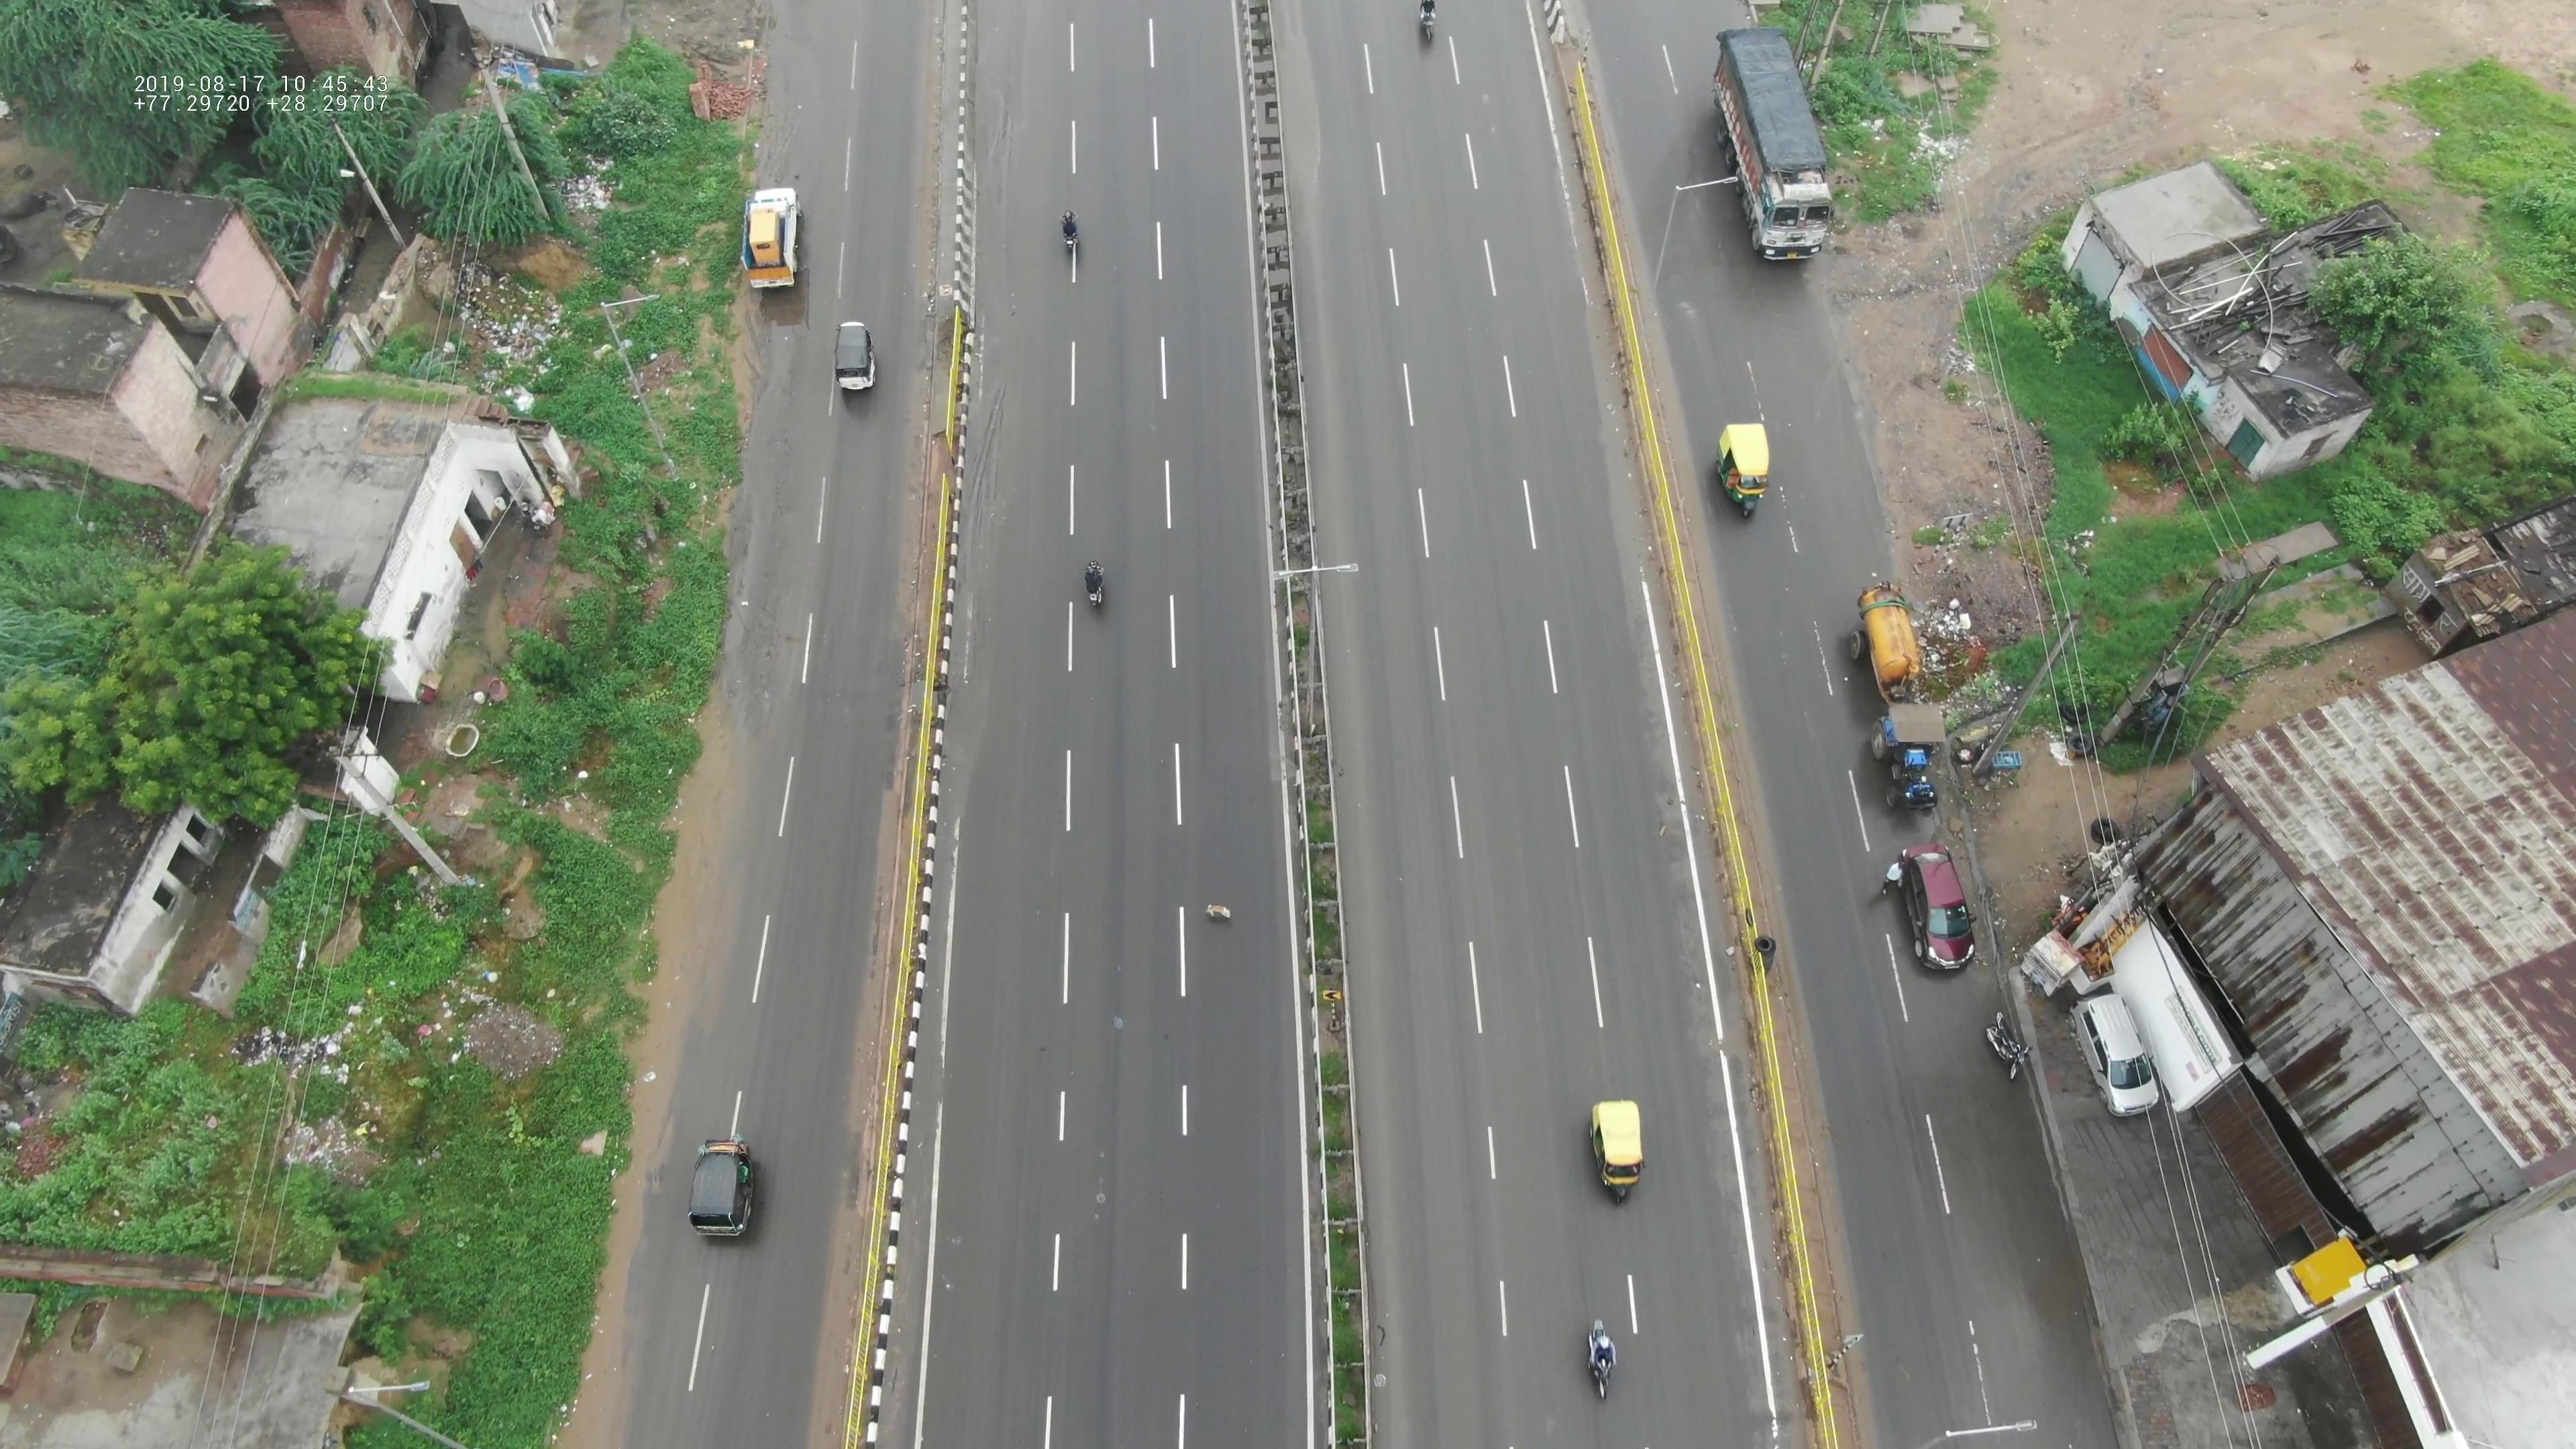Mud_Heaps: (437, 984, 577, 1093)
Mud_heaps: (619, 333, 717, 407)
